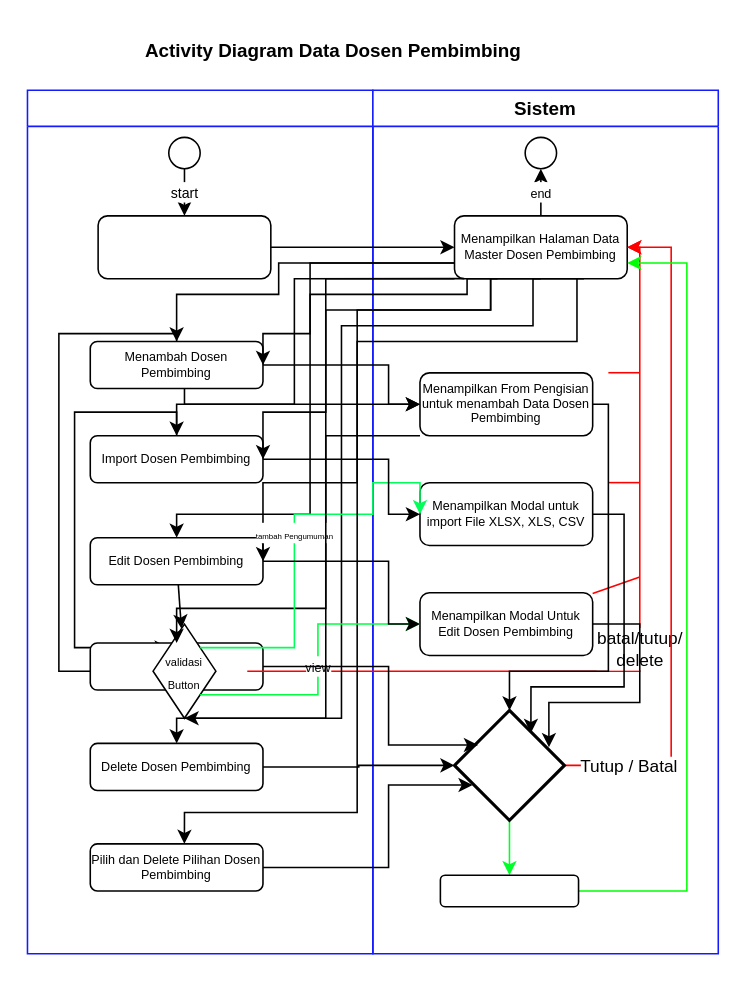
This 746x981 diagram has some shape labels left out. Here are the shapes that lost their labels. From the top down, the box of each, then its label:
(97, 214, 271, 279): Membuka Fitur Data Master Dosen Pembimbing Pada SIdebar
(26, 89, 373, 954): Koordinator
(89, 641, 263, 690): Detail Dosen Pembimbing
(452, 708, 565, 821): Validasi
(439, 874, 579, 907): Validasi Berhasil
